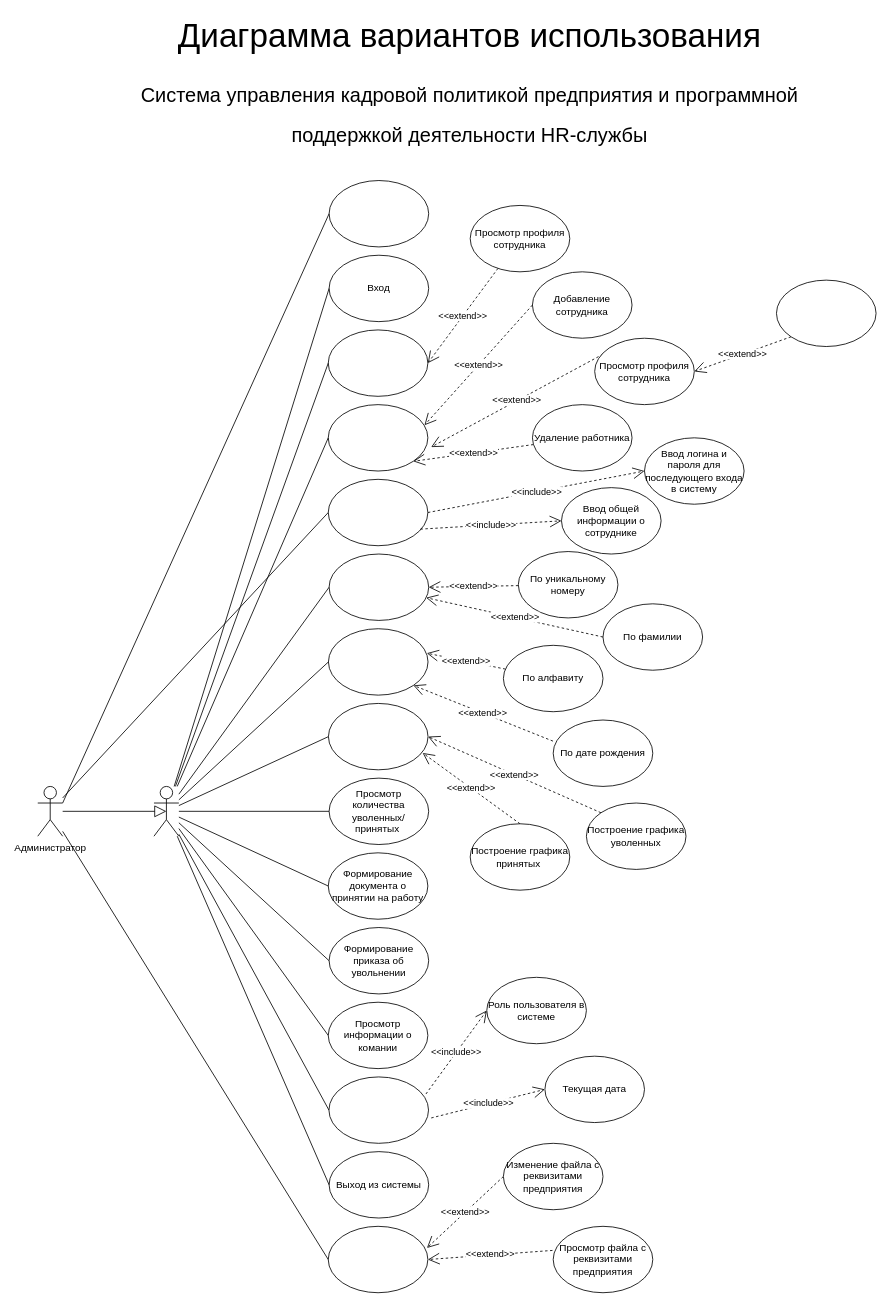
The diagram is 891 pixels wide and 1307 high, and some of its shapes have lost their labels. The centre of each missing label's shape, as x and y in pixels:
Добавление пользователя: the point at 377,512
Настройки системы: the point at 377,1259
Поиск сотрудников: the point at 378,586
Пользователь: the point at 166,811
Просмотр всех кадров: the point at 377,362
Просмотр информации о статусе пользователя в системе: the point at 378,1109
Регистрация: the point at 378,213
Редактирование профиля сотрудника: the point at 826,313
Сортировка всех сотрудников: the point at 378,661
Управление кадрами предприятия: the point at 377,437
Формирование отчетов: the point at 378,736
